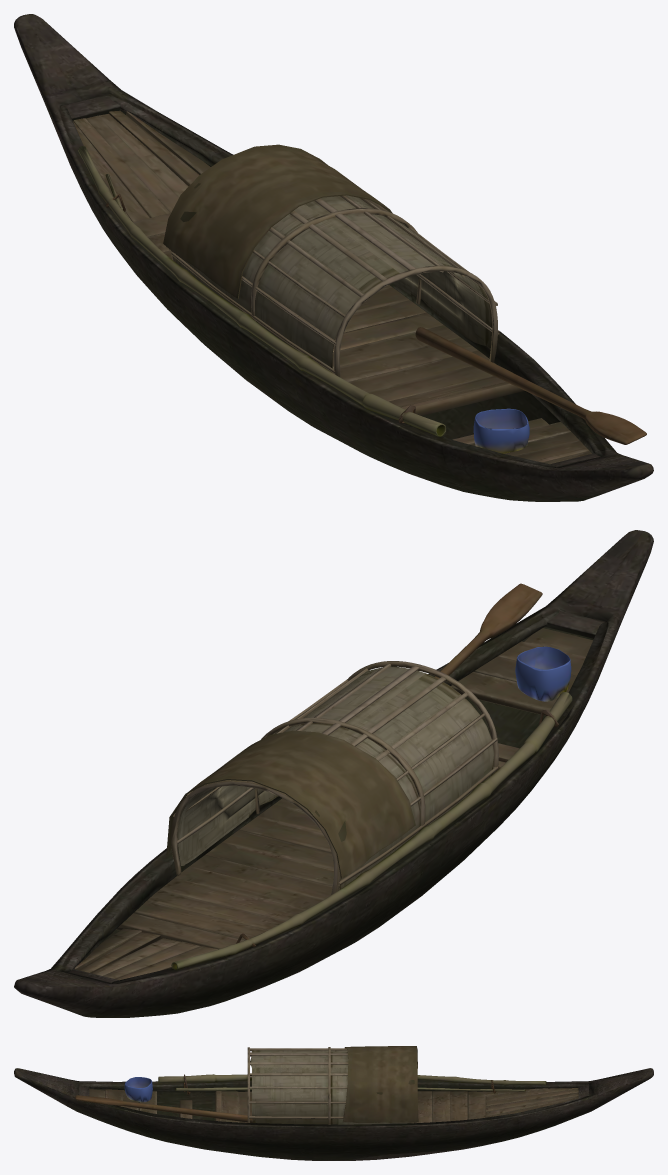
The model's file is boat_canopy.glb.
3 views of the same model, one above another, from view 1: azimuth 30°, elevation 25°; view 2: azimuth 150°, elevation 25°; view 3: azimuth 270°, elevation 25° (orthographic). The views are drawn at different scales.
Visible parts, largest first — view 1: prop; view 2: prop; view 3: prop.
Part boxes in pixels (box(x1,y1,x2,y2)): prop: box(14, 14, 653, 501); prop: box(14, 530, 653, 1017); prop: box(14, 1046, 653, 1160).
Size of the model in its own units: 1.66 by 1.61 by 9.
Materials: 9 (9 with a texture image).
